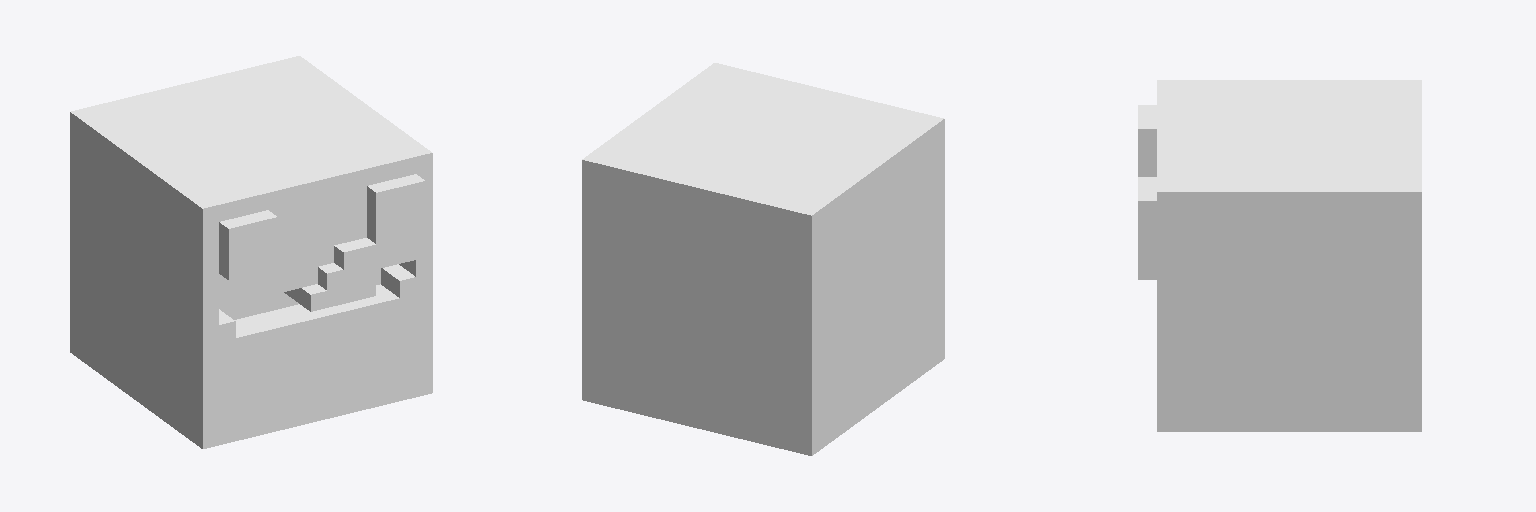
File: bomb5.obj
The picture shows the model from 3 angles: view 1: azimuth 30°, elevation 25°; view 2: azimuth 150°, elevation 25°; view 3: azimuth 270°, elevation 25°; orthographic projection.
Size of the model in its own units: 14 by 14 by 15.